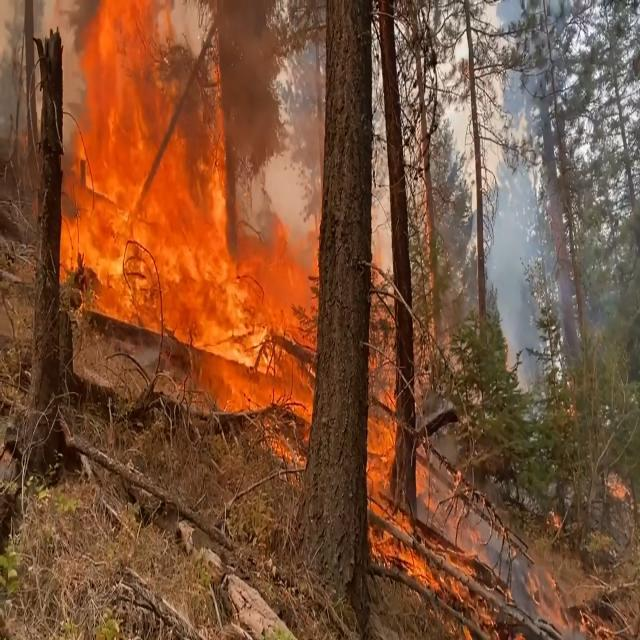Fire: (59, 0, 316, 474)
